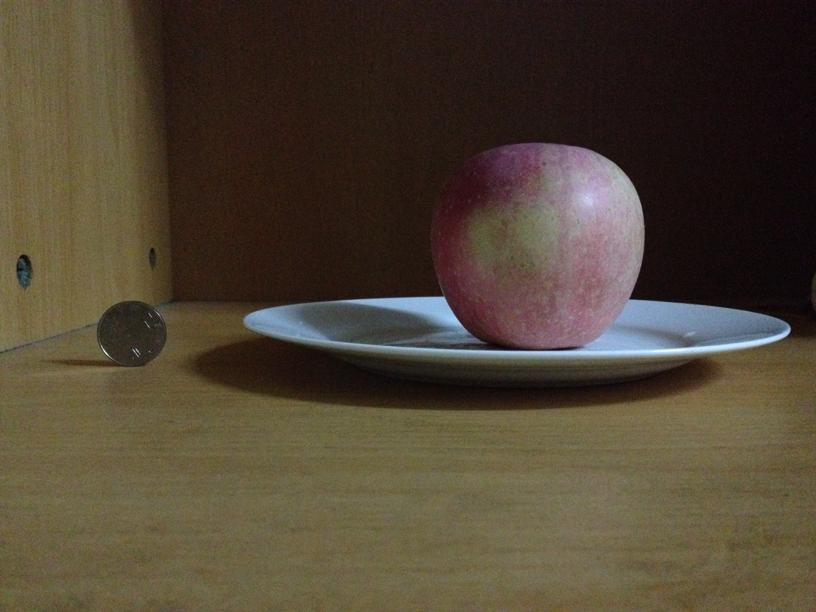apple: (432, 140, 645, 351)
coin: (92, 301, 166, 365)
